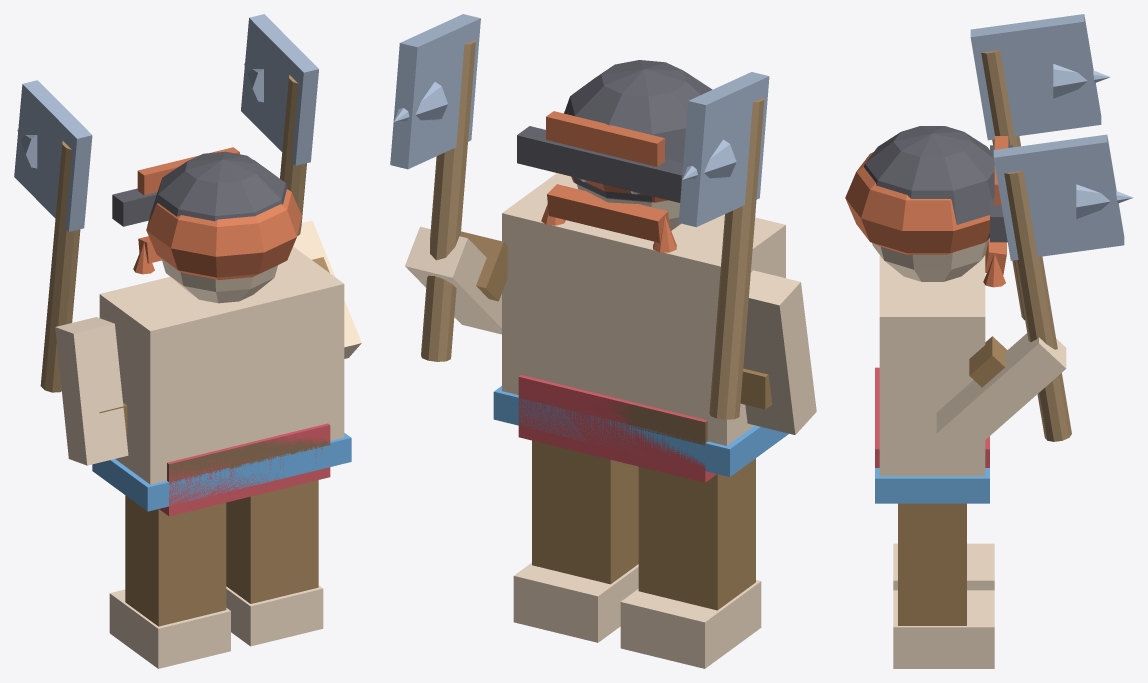
Rendered from berserker.glb.
3 views of the same model, side by side, from view 1: azimuth 30°, elevation 25°; view 2: azimuth 150°, elevation 25°; view 3: azimuth 270°, elevation 25° (orthographic). The views are drawn at different scales.
Parts seen in each view (by area): view 1: berserker; view 2: berserker; view 3: berserker.
Boxes of the visible parts, bbox=[...] form: berserker: bbox=[14, 14, 361, 668]; berserker: bbox=[390, 14, 816, 668]; berserker: bbox=[845, 14, 1133, 668].
Size of the model in its own units: 1.48 by 2.63 by 1.26.
